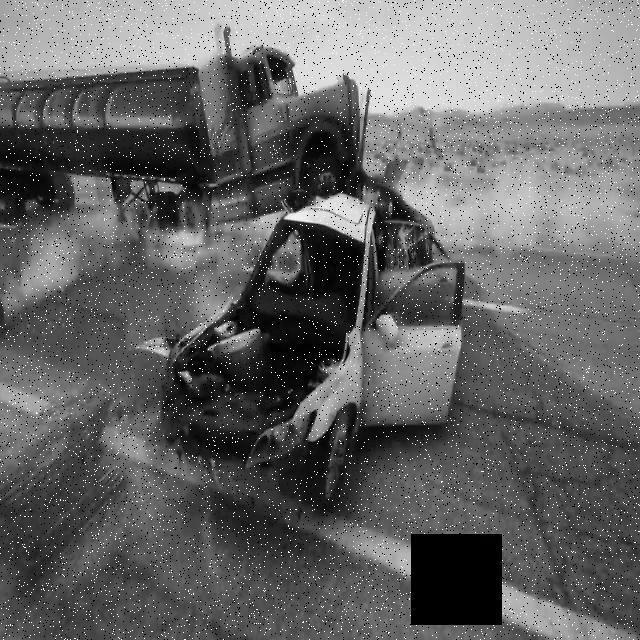accident: (2, 17, 445, 275), (156, 193, 468, 523)
